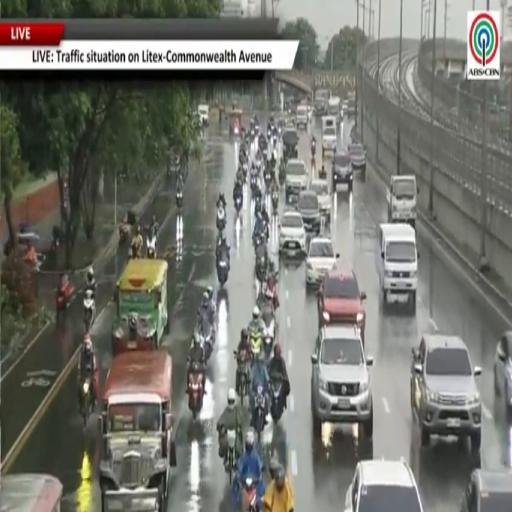car: (411, 333, 482, 453), (311, 326, 373, 439), (345, 459, 423, 511), (318, 265, 366, 342), (461, 470, 511, 511), (306, 237, 339, 285), (494, 331, 511, 419), (279, 210, 306, 257), (18, 231, 56, 259), (285, 158, 308, 203), (297, 190, 321, 233), (331, 151, 353, 193), (309, 179, 331, 218), (348, 142, 366, 181), (198, 104, 209, 126)
jeepney: (99, 350, 176, 511), (112, 260, 169, 356), (0, 474, 62, 511), (230, 108, 242, 138)
motorcycle: (188, 362, 203, 419), (234, 351, 250, 404), (262, 306, 275, 360), (199, 316, 214, 361), (56, 281, 72, 322), (225, 429, 236, 485), (254, 387, 265, 442), (81, 377, 93, 427), (240, 477, 257, 511), (271, 379, 283, 423), (84, 290, 95, 332), (217, 255, 229, 286), (249, 330, 262, 358), (256, 251, 266, 287), (119, 222, 131, 243), (216, 207, 226, 231), (147, 235, 157, 259), (271, 190, 278, 215), (128, 246, 141, 259), (264, 168, 271, 189), (255, 195, 262, 215), (235, 196, 242, 214), (251, 174, 257, 195), (279, 165, 285, 186), (176, 191, 182, 210), (243, 163, 247, 183), (262, 148, 267, 164), (256, 159, 261, 172), (311, 141, 315, 157), (273, 133, 277, 147), (278, 126, 282, 138), (267, 130, 271, 139)
